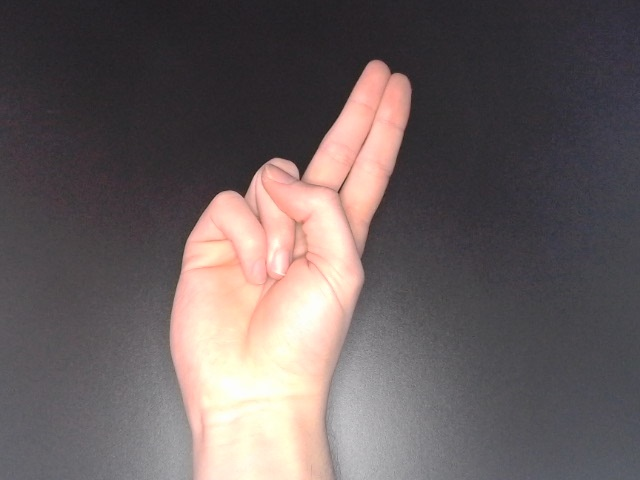u: (162, 53, 417, 451)
